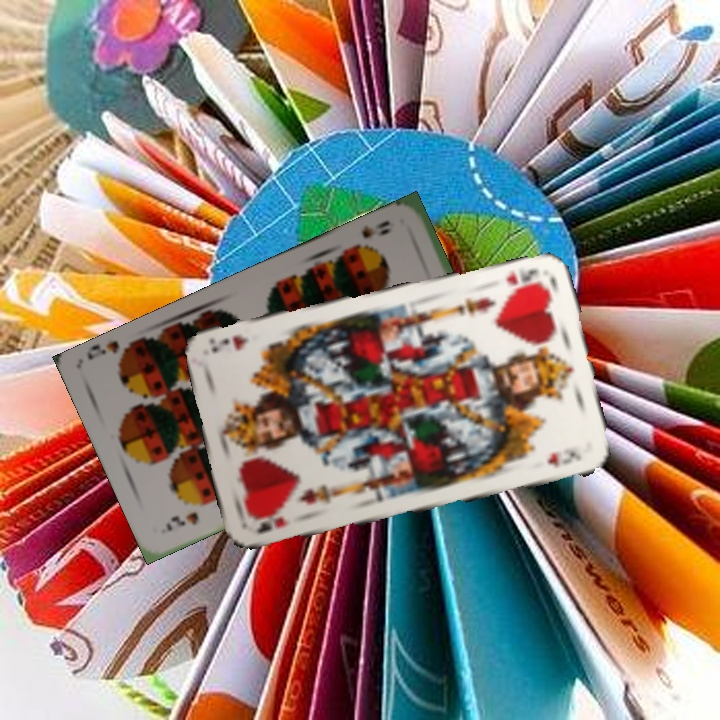HK: (502, 265, 550, 294), (252, 512, 293, 536)
S9: (348, 216, 393, 255), (161, 508, 201, 534)
